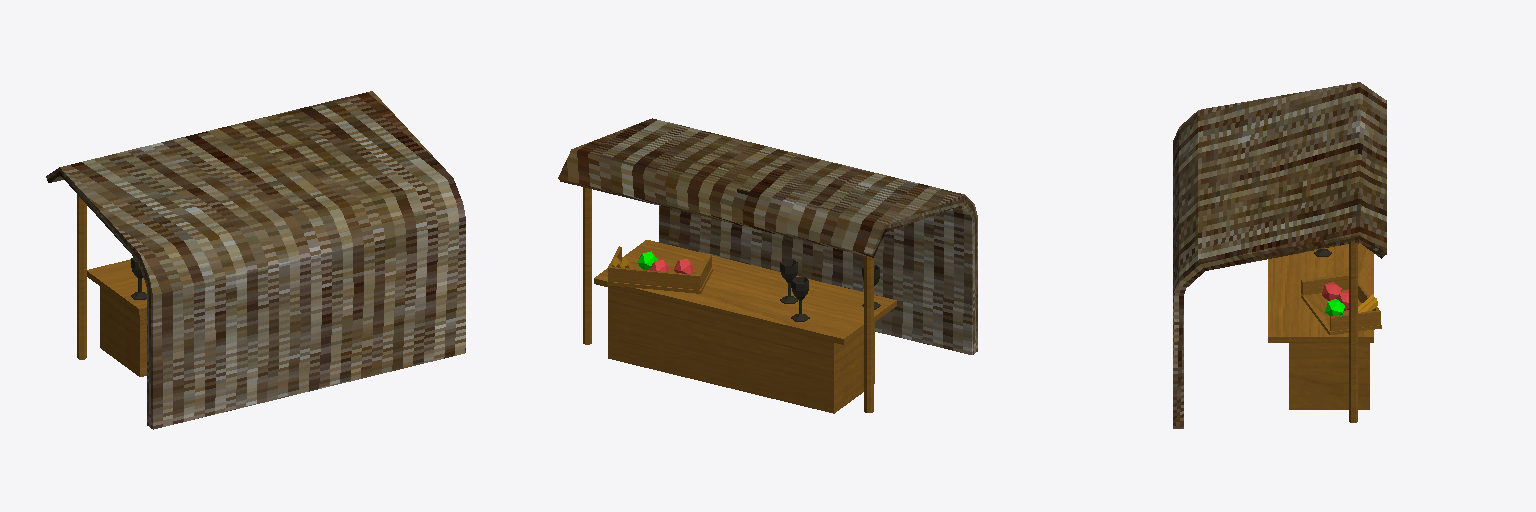
3 renders of one model, left to right at view 1: azimuth 30°, elevation 25°; view 2: azimuth 150°, elevation 25°; view 3: azimuth 270°, elevation 25°, orthographic.
Visible parts, largest first — view 1: Cube; view 2: Cube; view 3: Cube.
Boxes of the visible parts, box(x1,y1,x2,y2) form: Cube: box(46, 91, 465, 429); Cube: box(558, 118, 977, 413); Cube: box(1173, 82, 1386, 428).
Bounding box in the file's own units: 8.92 × 5.32 × 5.29.
Materials: 1 (1 with a texture image).